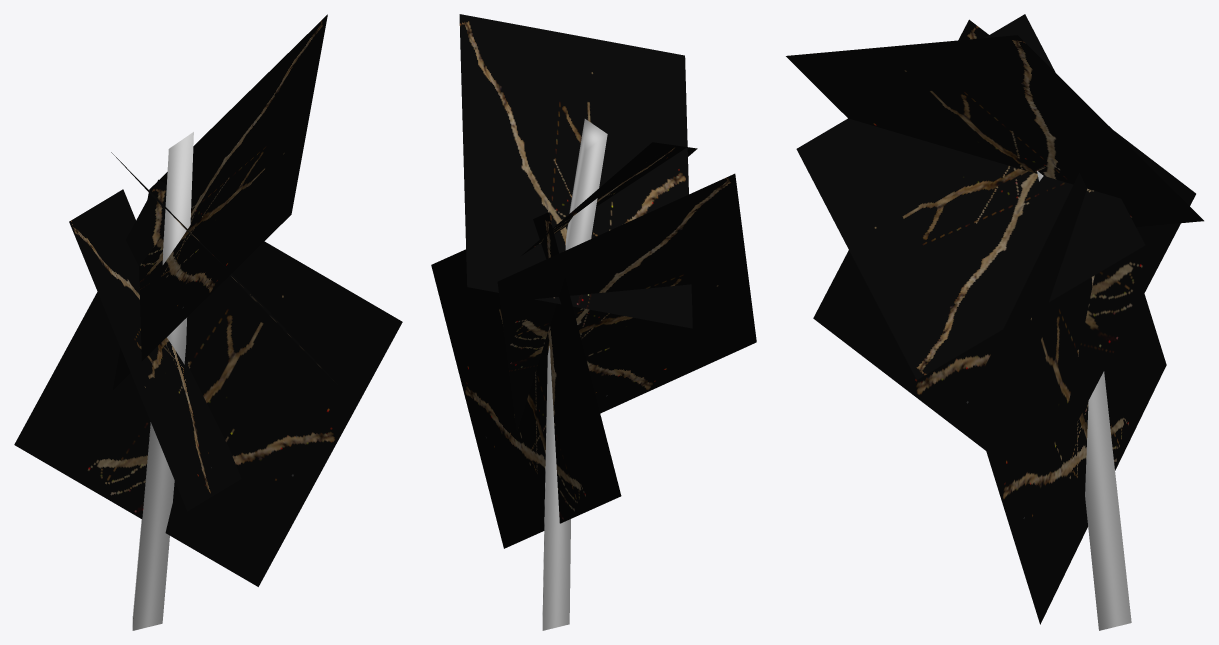
File: tannenzweig 3.fbx
The picture shows the model from 3 angles, left to right: view 1: azimuth 30°, elevation 25°; view 2: azimuth 150°, elevation 25°; view 3: azimuth 270°, elevation 25°; orthographic projection. The views are drawn at different scales.
Parts seen in each view (by area): view 1: Circle_003; view 2: Circle_003; view 3: Circle_003.
Boxes of the visible parts, x1,y1,x2,y2 form: Circle_003: (14,14,402,630); Circle_003: (431,14,756,630); Circle_003: (786,14,1203,630).
Bounding box in the file's own units: 2.23 × 3.87 × 2.21.
